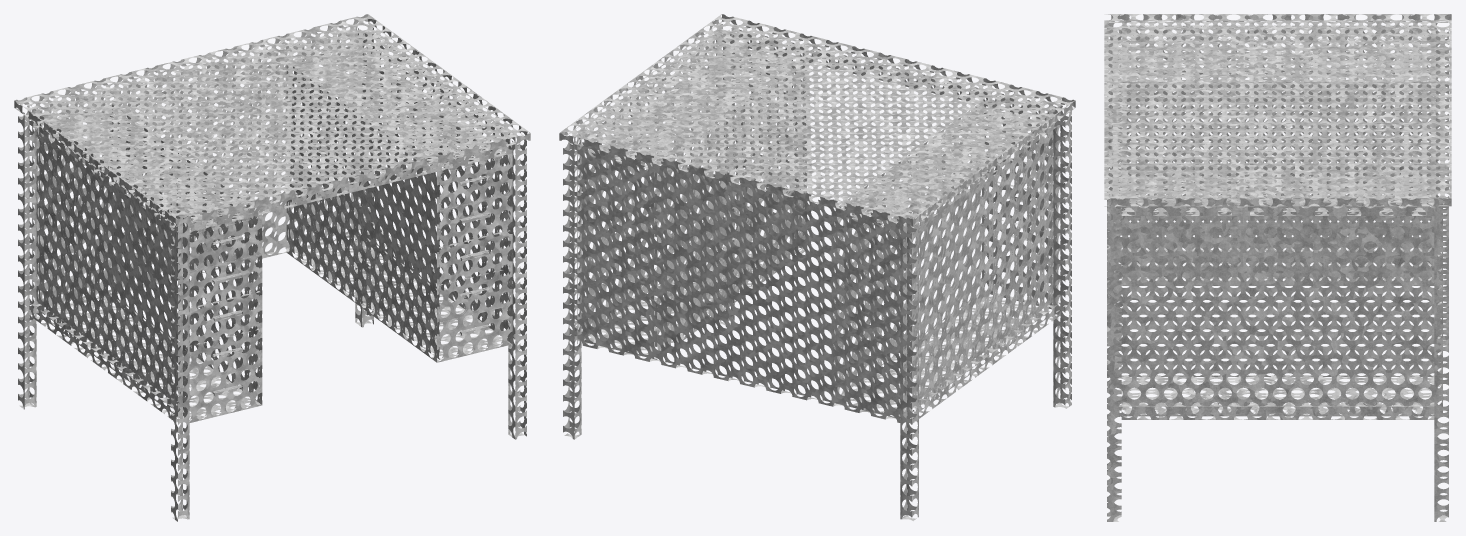
The picture shows the model from 3 angles, left to right: view 1: azimuth 30°, elevation 25°; view 2: azimuth 150°, elevation 25°; view 3: azimuth 270°, elevation 25°; orthographic projection. The views are drawn at different scales.
Parts seen in each view (by area): view 1: Mesh12 a9337cab_4565_46c9_bcdb_061173e996e1 G_2cd5b719_3c58_4deb, Mesh1 G_06078af0_de97_49c3_8228_e751509f23b7 G_2cd5b719_3c58_4de, Mesh13 bb032605_c25f_4689_9421_8011e58a680d G_2cd5b719_3c58_4deb, Mesh25 cc45851a_64b8_4aaf_80fd_e7f09df2b9ef G_2cd5b719_3c58_4deb, Mesh24 cc45851a_64b8_4aaf_80fd_e7f09df2b9ef G_2cd5b719_3c58_4deb, Mesh26 cc45851a_64b8_4aaf_80fd_e7f09df2b9ef G_2cd5b719_3c58_4deb, Mesh6 G_06078af0_de97_49c3_8228_e751509f23b7 G_2cd5b719_3c58_4de, Mesh18 bb032605_c25f_4689_9421_8011e58a680d G_2cd5b719_3c58_4deb, Mesh4 G_06078af0_de97_49c3_8228_e751509f23b7 G_2cd5b719_3c58_4de, Mesh16 bb032605_c25f_4689_9421_8011e58a680d G_2cd5b719_3c58_4deb, Mesh20 bb032605_c25f_4689_9421_8011e58a680d G_2cd5b719_3c58_4deb, Mesh8 G_06078af0_de97_49c3_8228_e751509f23b7 G_2cd5b719_3c58_4de (+4 smaller); view 2: Mesh12 a9337cab_4565_46c9_bcdb_061173e996e1 G_2cd5b719_3c58_4deb, Mesh25 cc45851a_64b8_4aaf_80fd_e7f09df2b9ef G_2cd5b719_3c58_4deb, Mesh1 G_06078af0_de97_49c3_8228_e751509f23b7 G_2cd5b719_3c58_4de, Mesh13 bb032605_c25f_4689_9421_8011e58a680d G_2cd5b719_3c58_4deb, Mesh24 cc45851a_64b8_4aaf_80fd_e7f09df2b9ef G_2cd5b719_3c58_4deb, Mesh26 cc45851a_64b8_4aaf_80fd_e7f09df2b9ef G_2cd5b719_3c58_4deb, Mesh6 G_06078af0_de97_49c3_8228_e751509f23b7 G_2cd5b719_3c58_4de, Mesh4 G_06078af0_de97_49c3_8228_e751509f23b7 G_2cd5b719_3c58_4de; view 3: Mesh12 a9337cab_4565_46c9_bcdb_061173e996e1 G_2cd5b719_3c58_4deb, Mesh13 bb032605_c25f_4689_9421_8011e58a680d G_2cd5b719_3c58_4deb, Mesh1 G_06078af0_de97_49c3_8228_e751509f23b7 G_2cd5b719_3c58_4de, Mesh24 cc45851a_64b8_4aaf_80fd_e7f09df2b9ef G_2cd5b719_3c58_4deb, Mesh27 cc45851a_64b8_4aaf_80fd_e7f09df2b9ef G_2cd5b719_3c58_4deb, Mesh25 cc45851a_64b8_4aaf_80fd_e7f09df2b9ef G_2cd5b719_3c58_4deb.
Boxes of the visible parts, x1=… form: Mesh12 a9337cab_4565_46c9_bcdb_061173e996e1 G_2cd5b719_3c58_4deb: x1=14, y1=14, x2=530, y2=521; Mesh1 G_06078af0_de97_49c3_8228_e751509f23b7 G_2cd5b719_3c58_4de: x1=36, y1=104, x2=262, y2=422; Mesh13 bb032605_c25f_4689_9421_8011e58a680d G_2cd5b719_3c58_4deb: x1=286, y1=45, x2=512, y2=362; Mesh25 cc45851a_64b8_4aaf_80fd_e7f09df2b9ef G_2cd5b719_3c58_4deb: x1=32, y1=28, x2=361, y2=313; Mesh24 cc45851a_64b8_4aaf_80fd_e7f09df2b9ef G_2cd5b719_3c58_4deb: x1=29, y1=30, x2=515, y2=231; Mesh26 cc45851a_64b8_4aaf_80fd_e7f09df2b9ef G_2cd5b719_3c58_4deb: x1=29, y1=303, x2=177, y2=422; Mesh6 G_06078af0_de97_49c3_8228_e751509f23b7 G_2cd5b719_3c58_4de: x1=189, y1=292, x2=260, y2=346; Mesh18 bb032605_c25f_4689_9421_8011e58a680d G_2cd5b719_3c58_4deb: x1=438, y1=231, x2=510, y2=285; Mesh4 G_06078af0_de97_49c3_8228_e751509f23b7 G_2cd5b719_3c58_4de: x1=189, y1=329, x2=260, y2=383; Mesh16 bb032605_c25f_4689_9421_8011e58a680d G_2cd5b719_3c58_4deb: x1=438, y1=268, x2=510, y2=322; Mesh20 bb032605_c25f_4689_9421_8011e58a680d G_2cd5b719_3c58_4deb: x1=438, y1=193, x2=510, y2=247; Mesh8 G_06078af0_de97_49c3_8228_e751509f23b7 G_2cd5b719_3c58_4de: x1=189, y1=254, x2=260, y2=308; Mesh12 a9337cab_4565_46c9_bcdb_061173e996e1 G_2cd5b719_3c58_4deb: x1=559, y1=14, x2=1075, y2=520; Mesh25 cc45851a_64b8_4aaf_80fd_e7f09df2b9ef G_2cd5b719_3c58_4deb: x1=577, y1=140, x2=906, y2=422; Mesh1 G_06078af0_de97_49c3_8228_e751509f23b7 G_2cd5b719_3c58_4de: x1=833, y1=102, x2=1057, y2=418; Mesh13 bb032605_c25f_4689_9421_8011e58a680d G_2cd5b719_3c58_4deb: x1=581, y1=46, x2=807, y2=359; Mesh24 cc45851a_64b8_4aaf_80fd_e7f09df2b9ef G_2cd5b719_3c58_4deb: x1=574, y1=29, x2=1060, y2=229; Mesh26 cc45851a_64b8_4aaf_80fd_e7f09df2b9ef G_2cd5b719_3c58_4deb: x1=907, y1=303, x2=1060, y2=422; Mesh6 G_06078af0_de97_49c3_8228_e751509f23b7 G_2cd5b719_3c58_4de: x1=983, y1=179, x2=1053, y2=231; Mesh4 G_06078af0_de97_49c3_8228_e751509f23b7 G_2cd5b719_3c58_4de: x1=983, y1=216, x2=1053, y2=269; Mesh12 a9337cab_4565_46c9_bcdb_061173e996e1 G_2cd5b719_3c58_4deb: x1=1104, y1=14, x2=1451, y2=521; Mesh13 bb032605_c25f_4689_9421_8011e58a680d G_2cd5b719_3c58_4deb: x1=1113, y1=173, x2=1434, y2=416; Mesh1 G_06078af0_de97_49c3_8228_e751509f23b7 G_2cd5b719_3c58_4de: x1=1115, y1=43, x2=1434, y2=285; Mesh24 cc45851a_64b8_4aaf_80fd_e7f09df2b9ef G_2cd5b719_3c58_4deb: x1=1113, y1=25, x2=1434, y2=215; Mesh27 cc45851a_64b8_4aaf_80fd_e7f09df2b9ef G_2cd5b719_3c58_4deb: x1=1121, y1=403, x2=1434, y2=419; Mesh25 cc45851a_64b8_4aaf_80fd_e7f09df2b9ef G_2cd5b719_3c58_4deb: x1=1436, y1=35, x2=1442, y2=412.
Bounding box in the file's own units: 1.5 × 1.23 × 1.19.
1 material, 1 textured.
